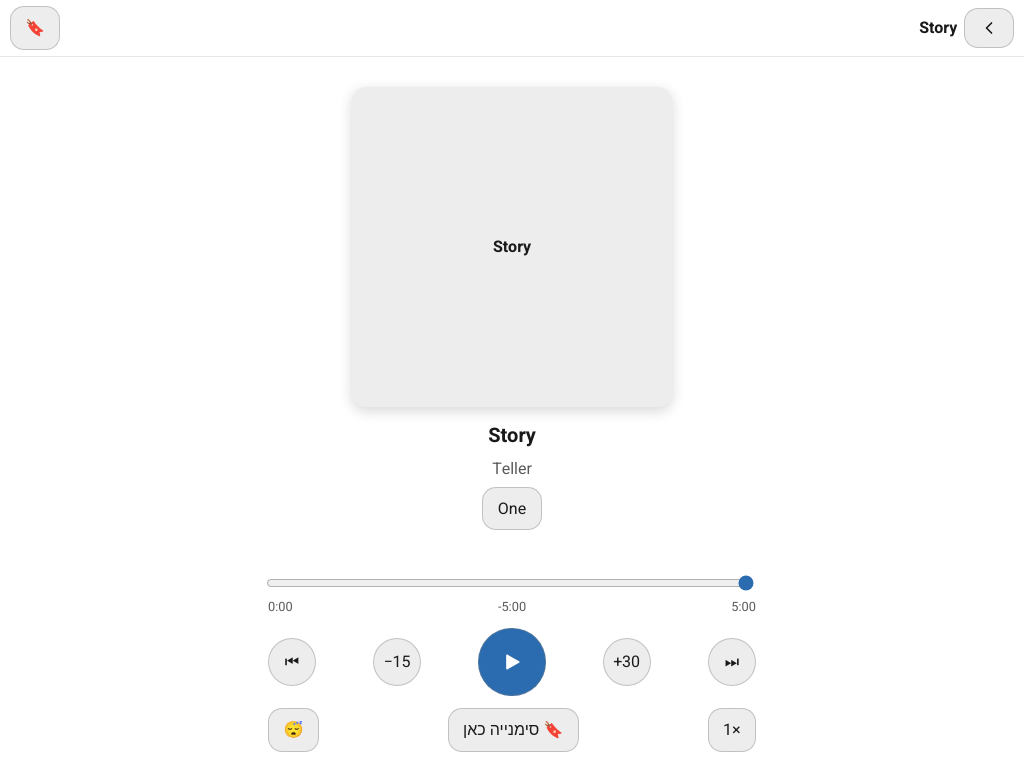
Test: AudioPlayer › toggles playback with the big button and reflects the state
Click the button named "נגן".
click(512, 662)  # box [478, 628, 546, 696]
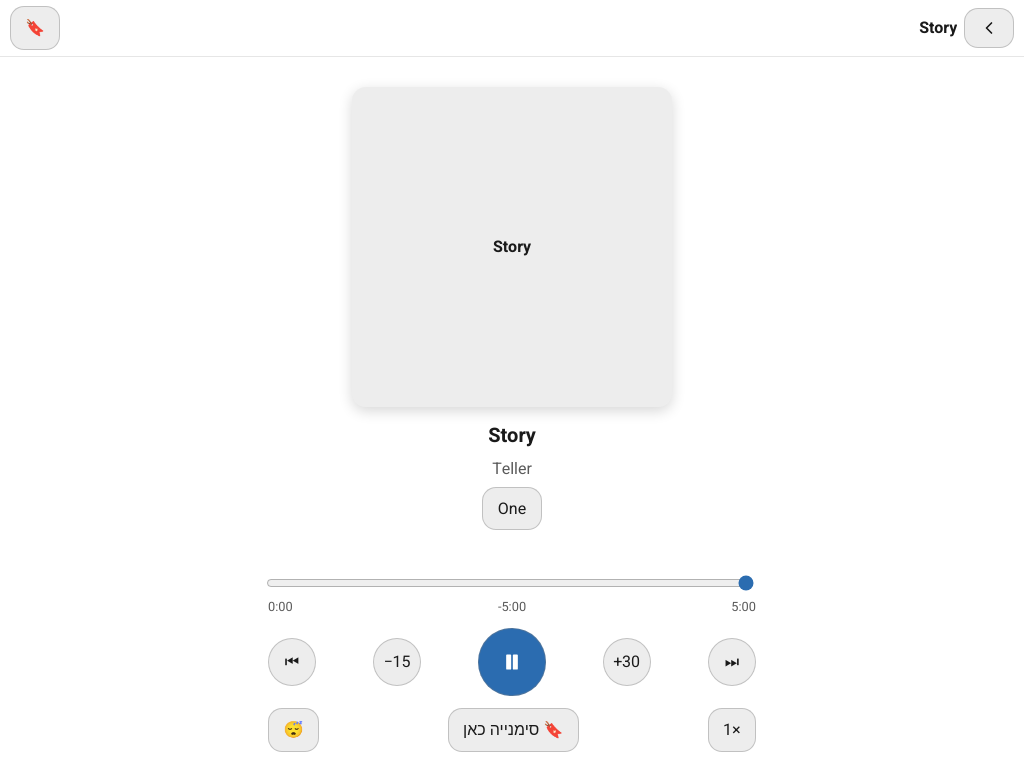
Click the button named "השהה".
click(512, 662)  # box [478, 628, 546, 696]
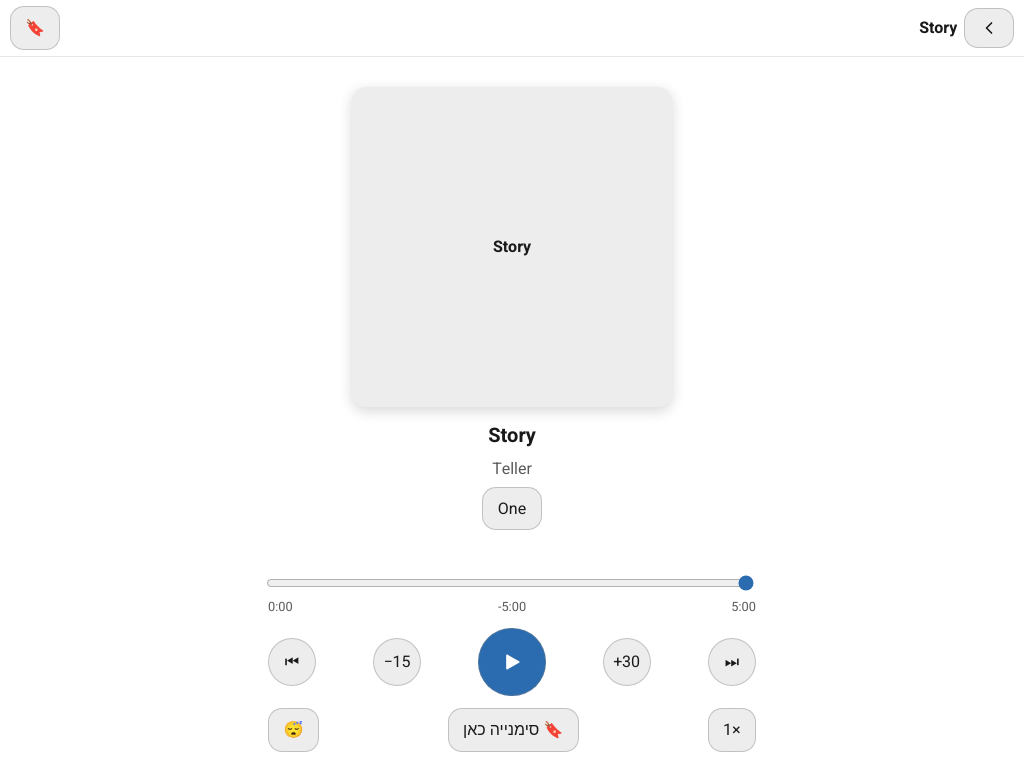
Result: the button named "נגן" is shown at [478, 628, 546, 696]
